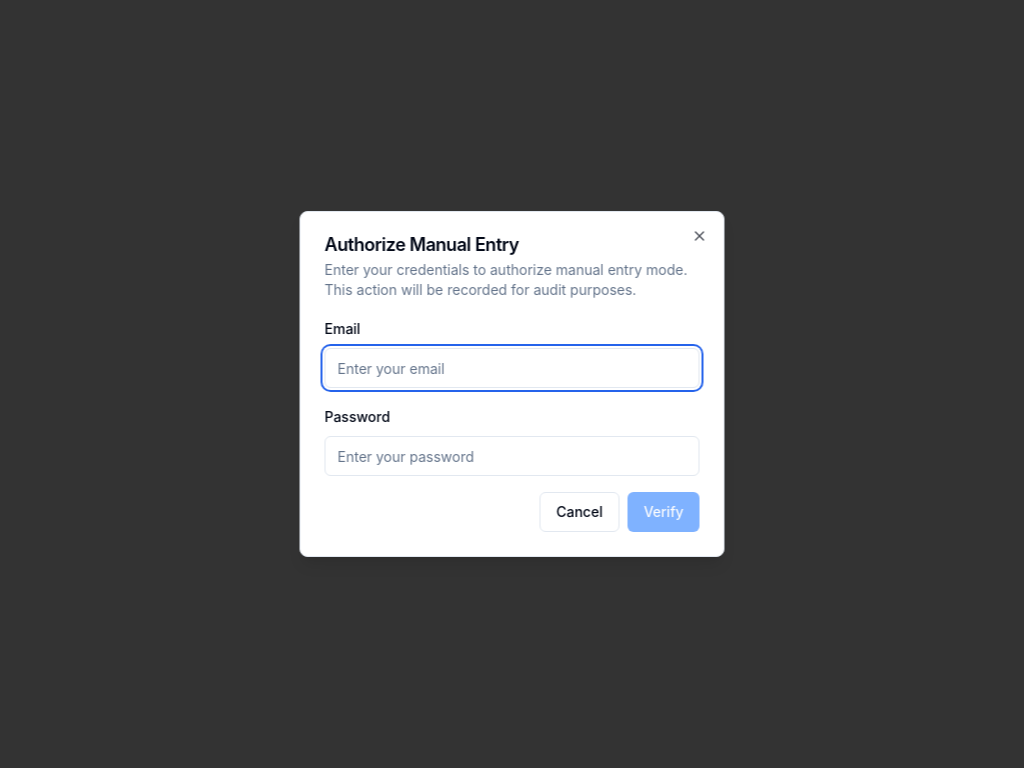
Test: ManualEntryAuthModal › Modal State Management › should show loading state during verification
The width and height of the screenshot is (1024, 768).
Type "test@example.com" into the field with test id "email-input" at coordinates (512, 368), box [324,348,700,388]
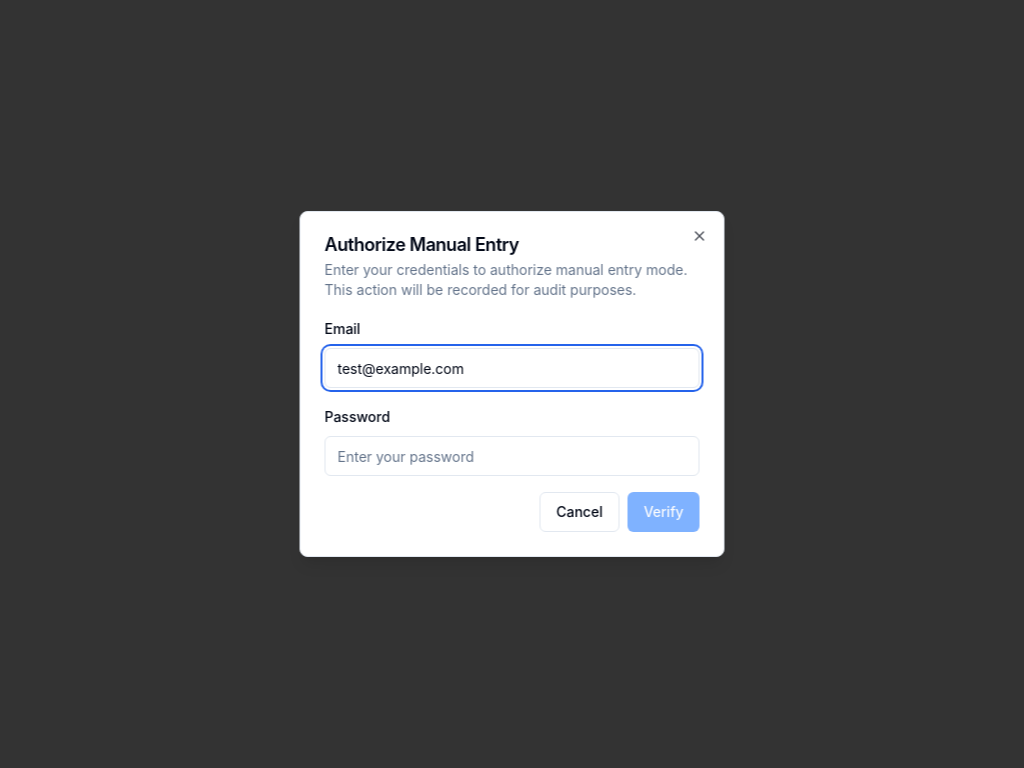
Type "password123" into the password field with test id "password-input" at coordinates (512, 456), box [324,436,700,476]
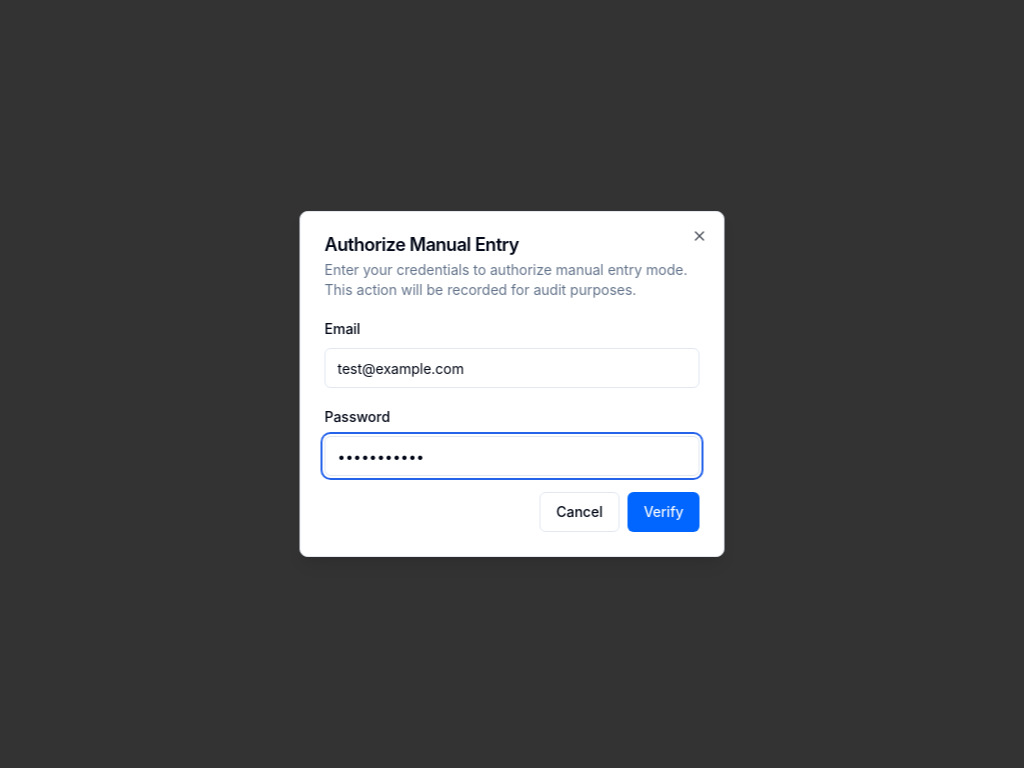
Click the button with test id "verify-button" at coordinates (664, 512), box [628,492,700,532]
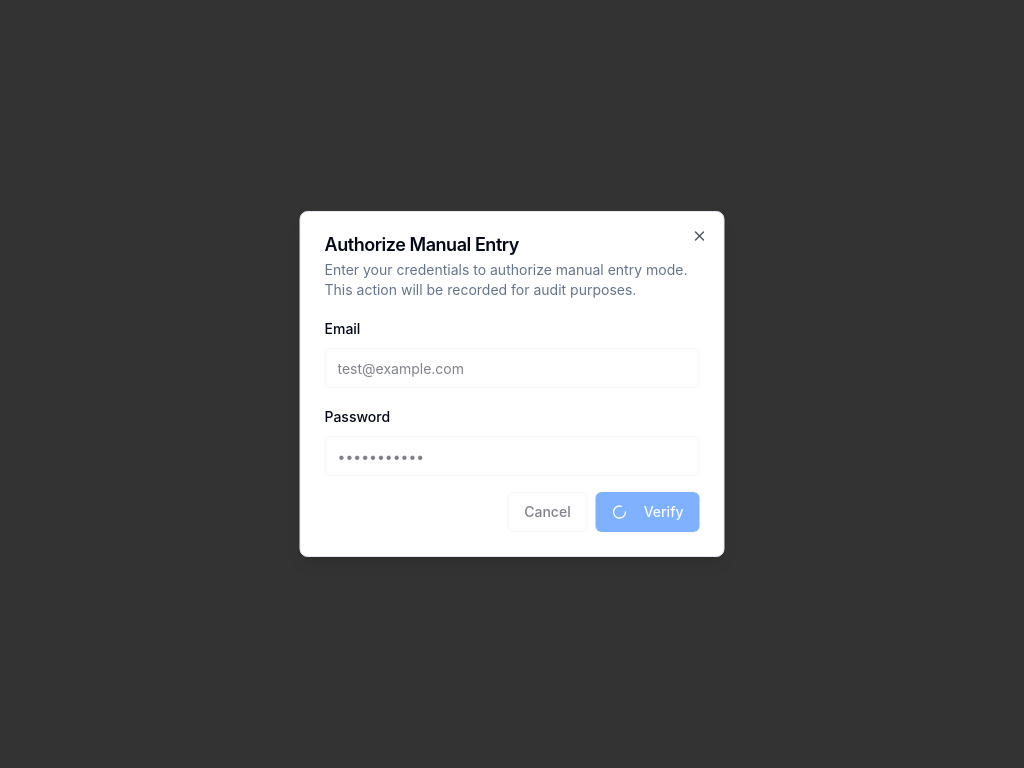
Expected: the field with test id "email-input" is disabled, [324,348,700,388]
Expected: the password field with test id "password-input" is disabled, [324,436,700,476]
